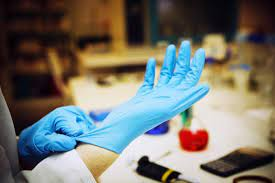gloves: (84, 43, 214, 155)
